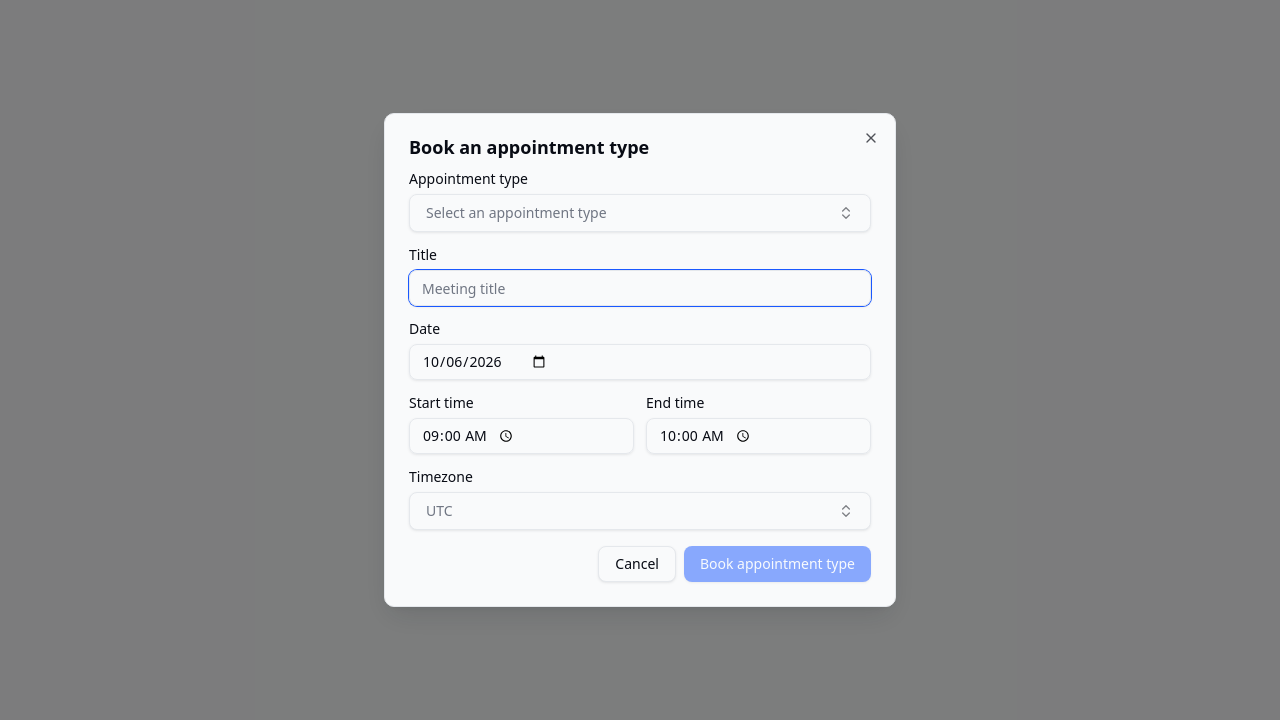
Test: AppointmentTypeBookingFlow › only free candidates are selectable; busy candidates are disabled
Click the dropdown labelled "Select an appointment type": (516, 212) [409, 194, 871, 232]
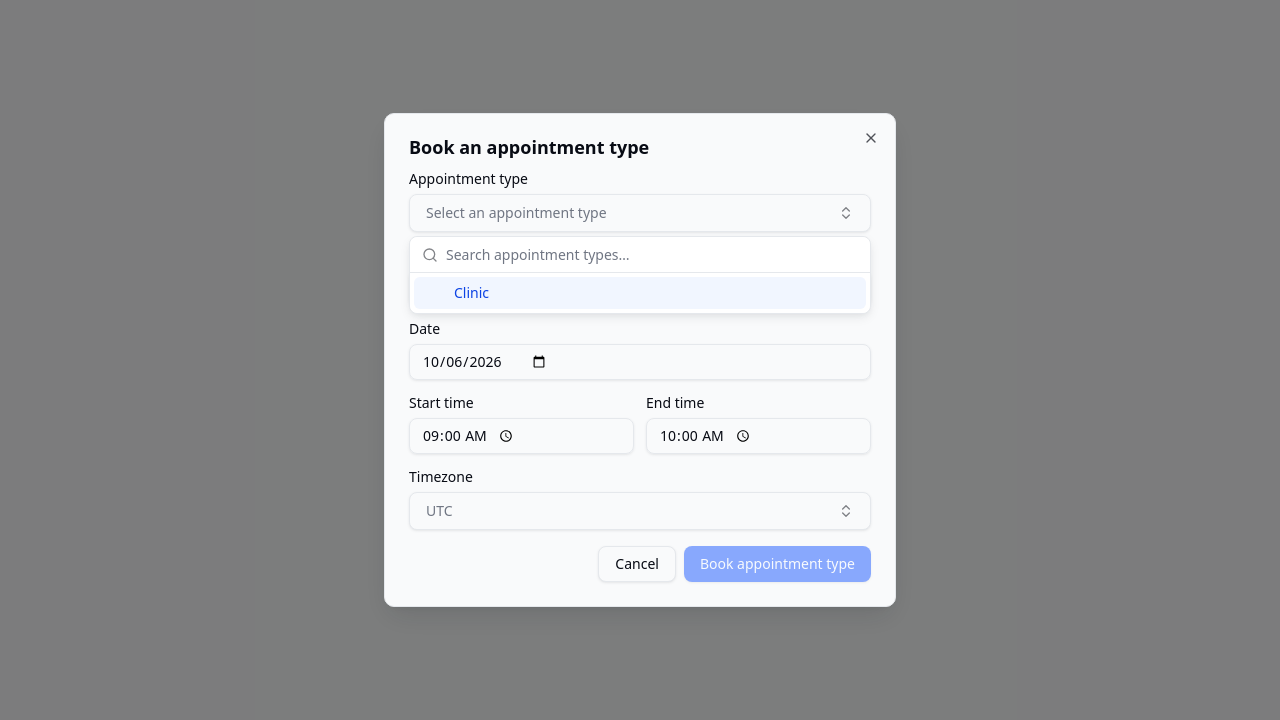
Click the option "Clinic": (472, 292) [414, 277, 866, 309]
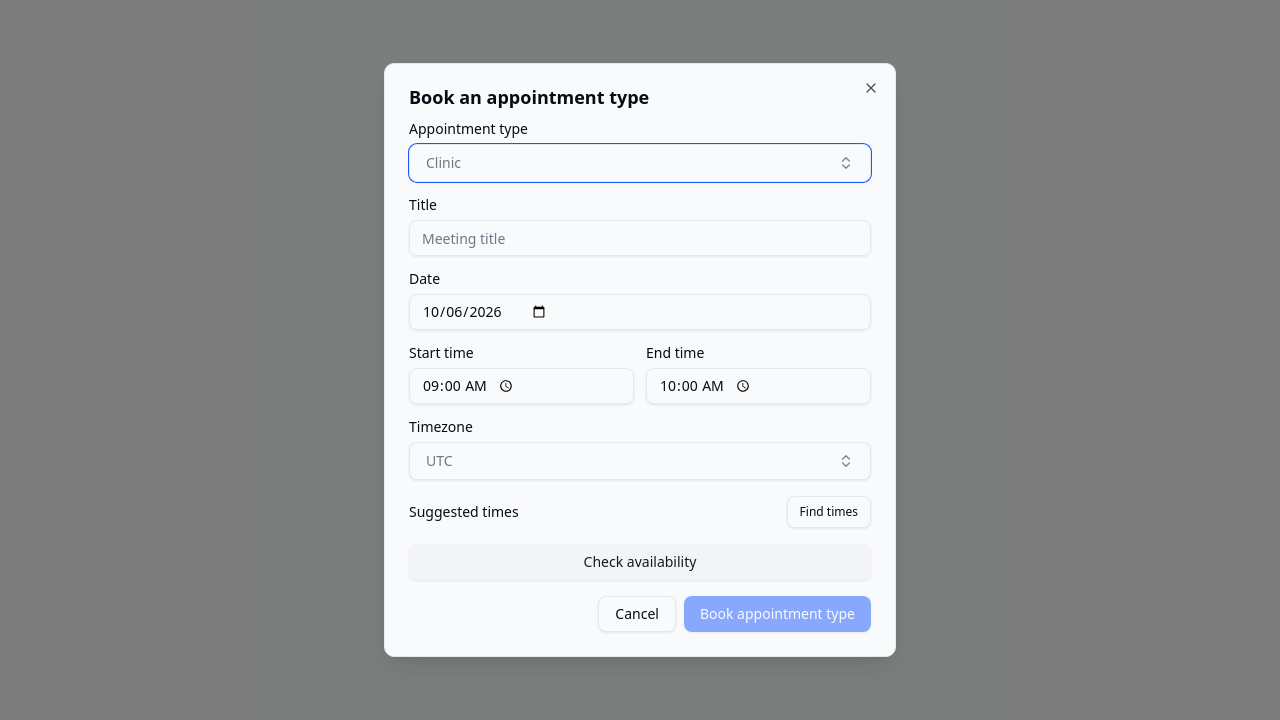
In the field labelled "Title": (640, 238) [409, 220, 871, 256], type "Visit"
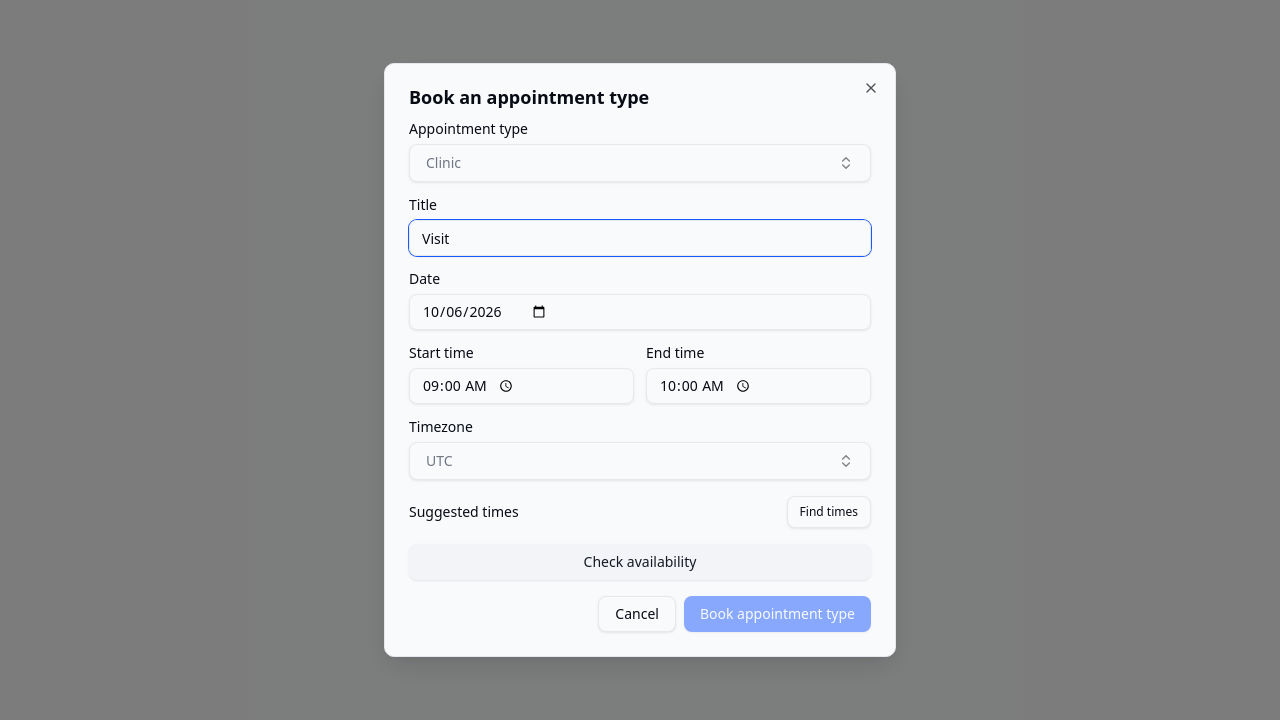
Click the button "Check availability": (640, 562) [409, 544, 871, 580]
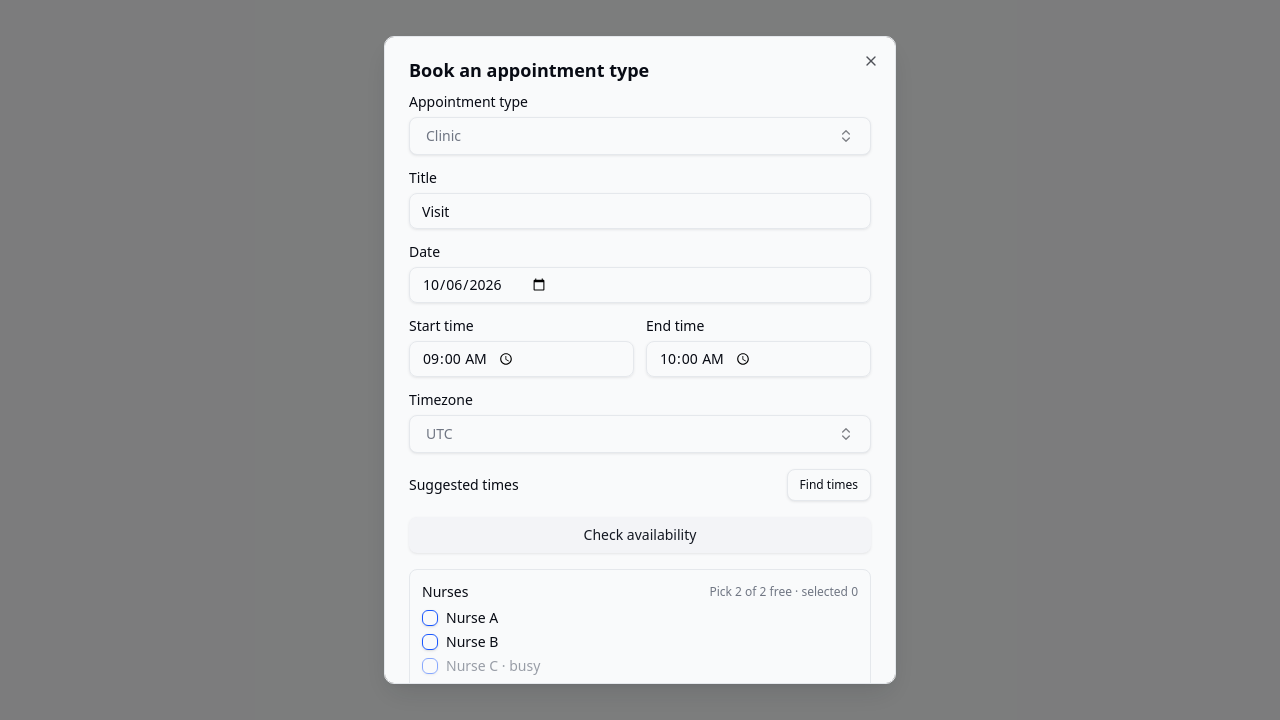
Check: the checkbox named "nurse a" is enabled, box [422, 610, 438, 626]
Check: the checkbox named "nurse b" is enabled, box [422, 634, 438, 650]
Check: the checkbox named "Nurse C (busy)" is disabled, box [422, 658, 438, 674]
